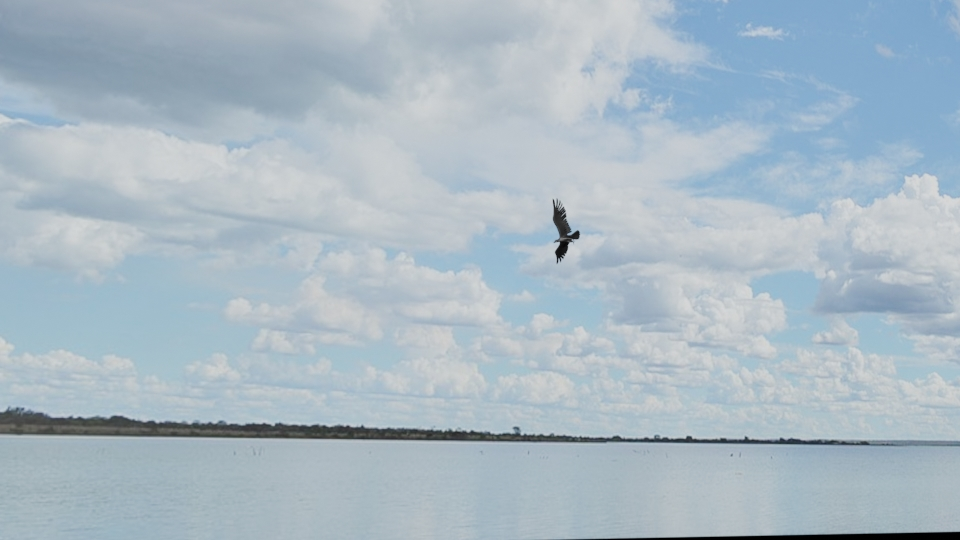bird: (550, 197, 580, 261)
